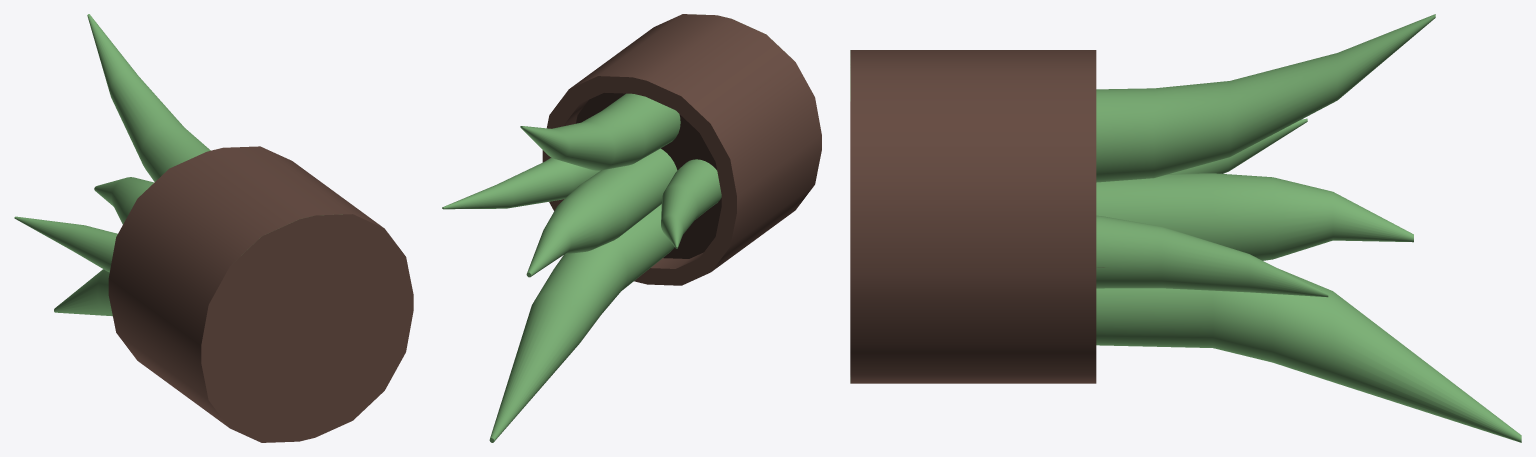
File: SM_Plant.fbx
3 views of the same model, side by side, from view 1: azimuth 30°, elevation 25°; view 2: azimuth 150°, elevation 25°; view 3: azimuth 270°, elevation 25° (orthographic). The views are drawn at different scales.
Visible parts, largest first — view 1: SM_Plant; view 2: SM_Plant; view 3: SM_Plant.
Boxes of the visible parts, x1=… form: SM_Plant: x1=14, y1=14, x2=413, y2=442; SM_Plant: x1=442, y1=14, x2=821, y2=442; SM_Plant: x1=850, y1=14, x2=1521, y2=442.
Bounding box in the file's own units: 356 × 439 × 623.
